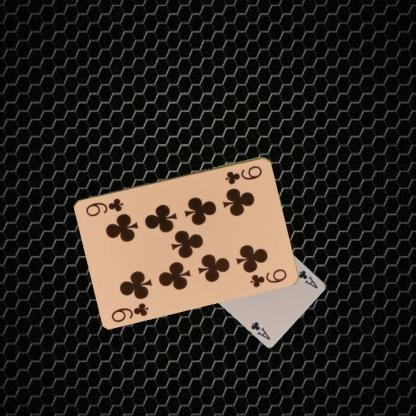9c: (223, 162, 264, 186), (109, 300, 150, 323)
Ac: (296, 268, 319, 290)
